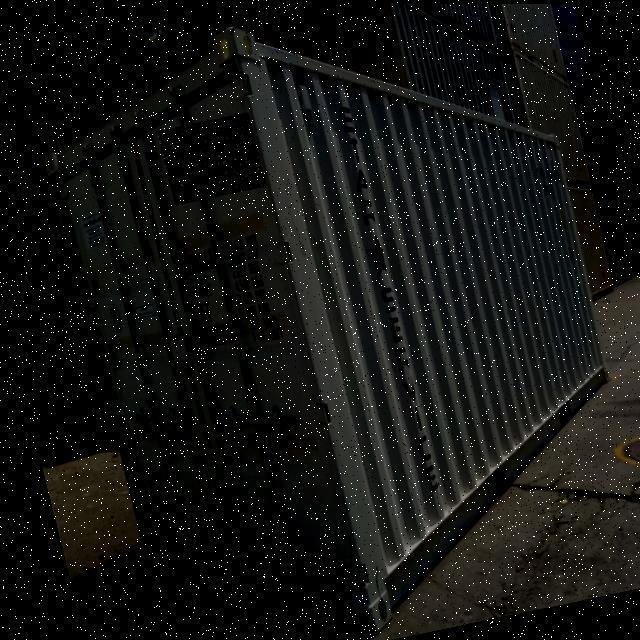container_number_h: (155, 111, 265, 205)
